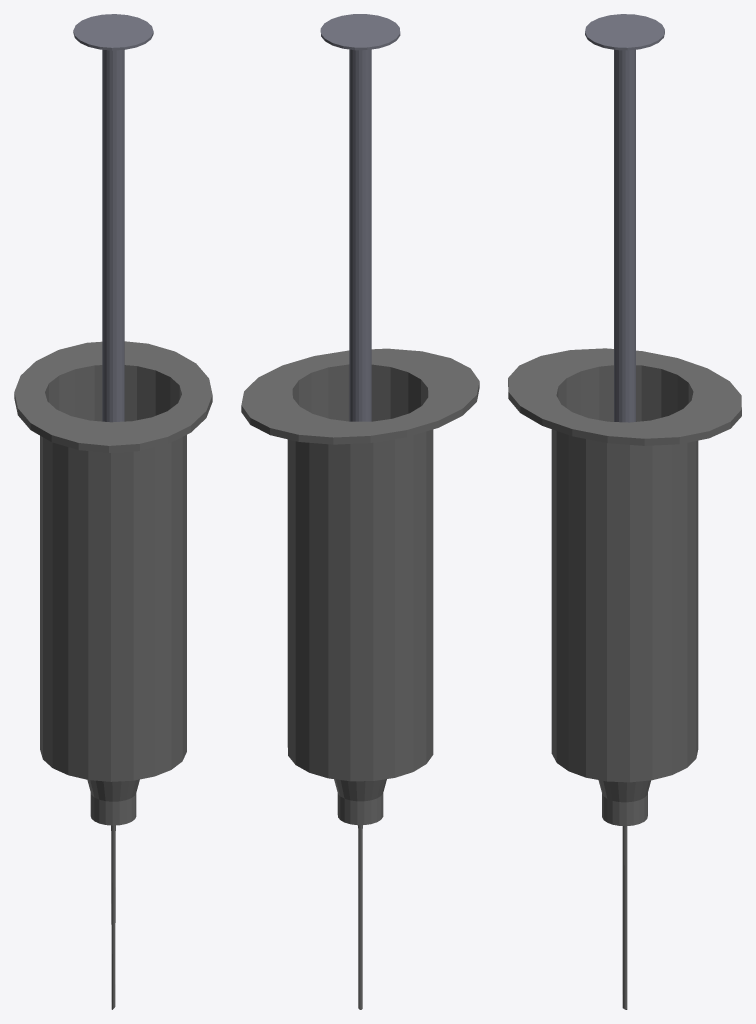
The model's file is Seringue.fbx.
3 renders of one model, left to right at view 1: azimuth 30°, elevation 25°; view 2: azimuth 150°, elevation 25°; view 3: azimuth 270°, elevation 25°, orthographic.
Visible parts, largest first — view 1: case1, top; view 2: case1, top; view 3: case1, top.
Part boxes in pixels (x1,y1,x2,y2): case1: (14, 341, 212, 1009); top: (73, 14, 153, 422); case1: (241, 348, 479, 1009); top: (320, 14, 400, 421); case1: (508, 348, 741, 1009); top: (585, 14, 664, 422).
Size of the model in its own units: 5.79 by 29.23 by 6.32.
Materials: 3 (2 with a texture image).
